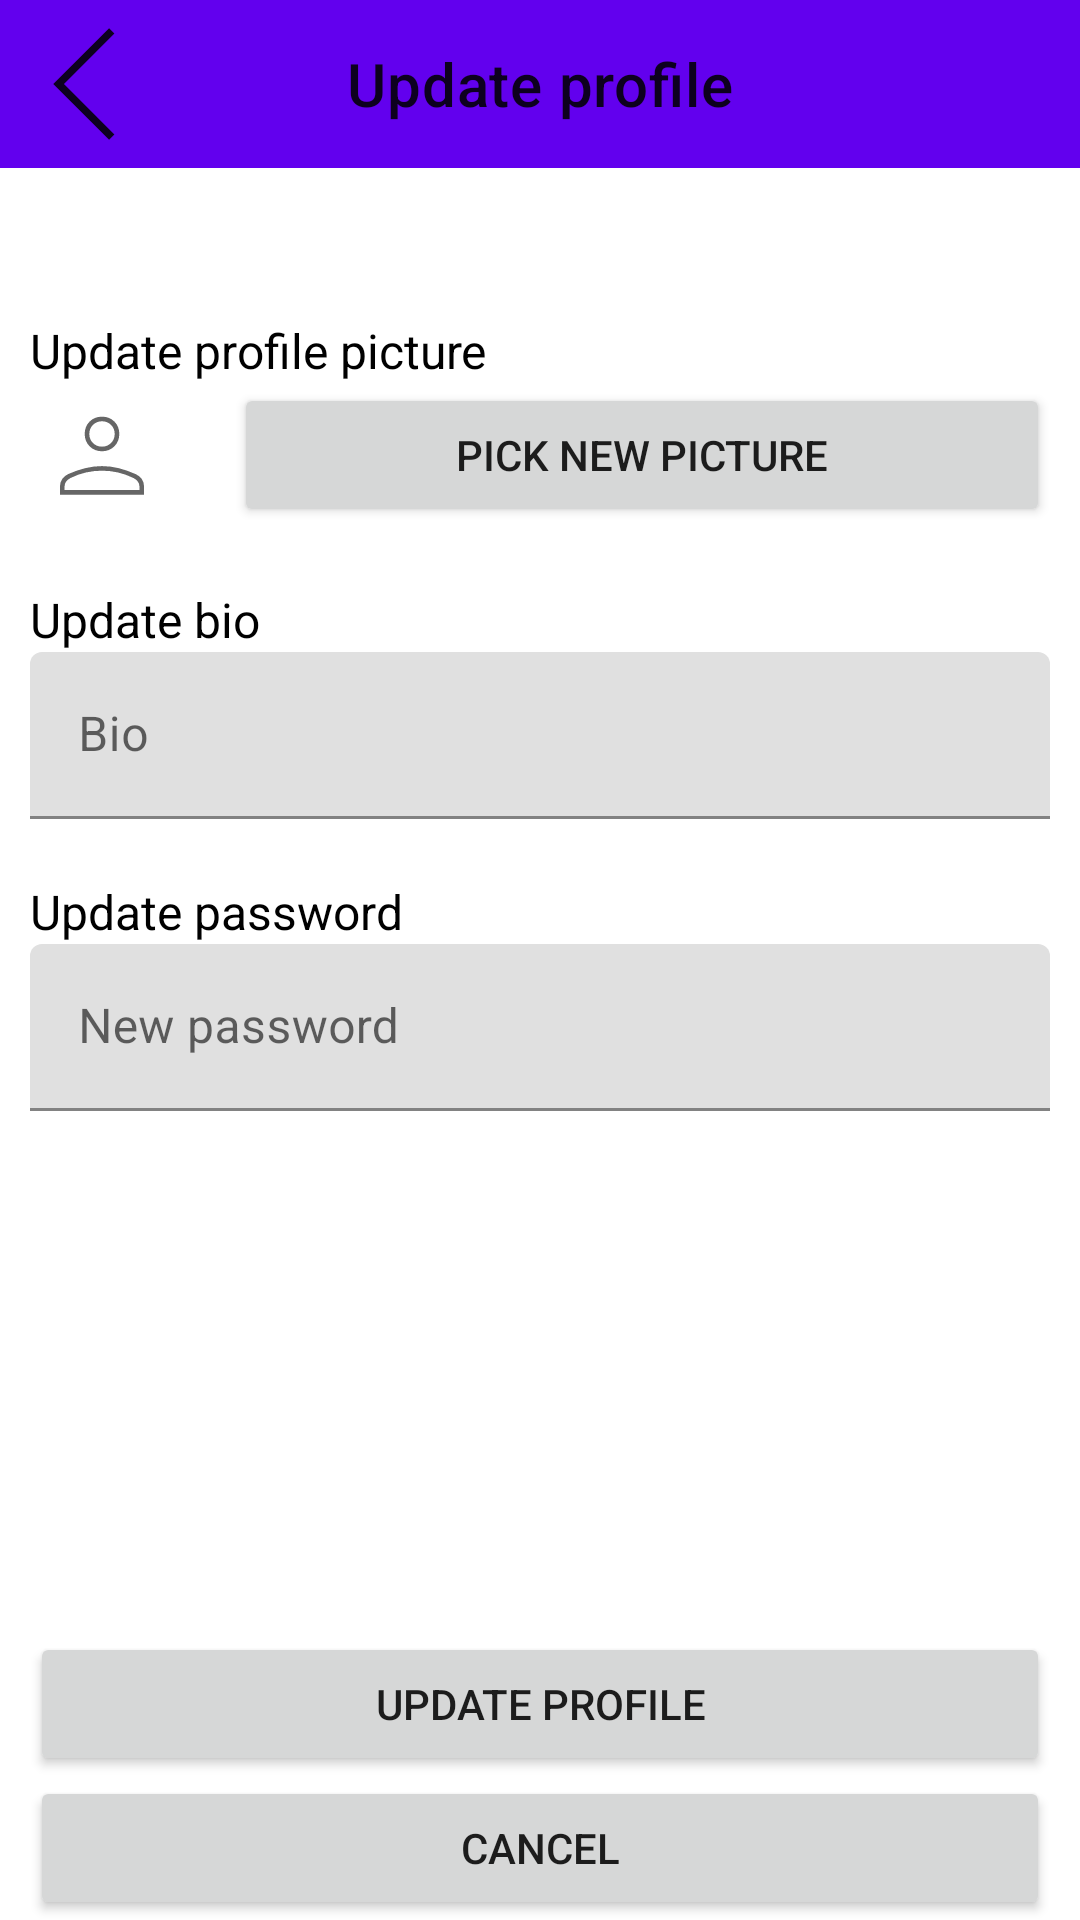

Named icons in this screenshot (1080x1920) and their bounding boxes, (x1, y1, x2, y2):
person: (60, 416, 144, 495)
